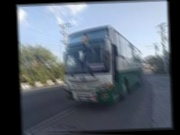bus: (62, 25, 146, 109)
